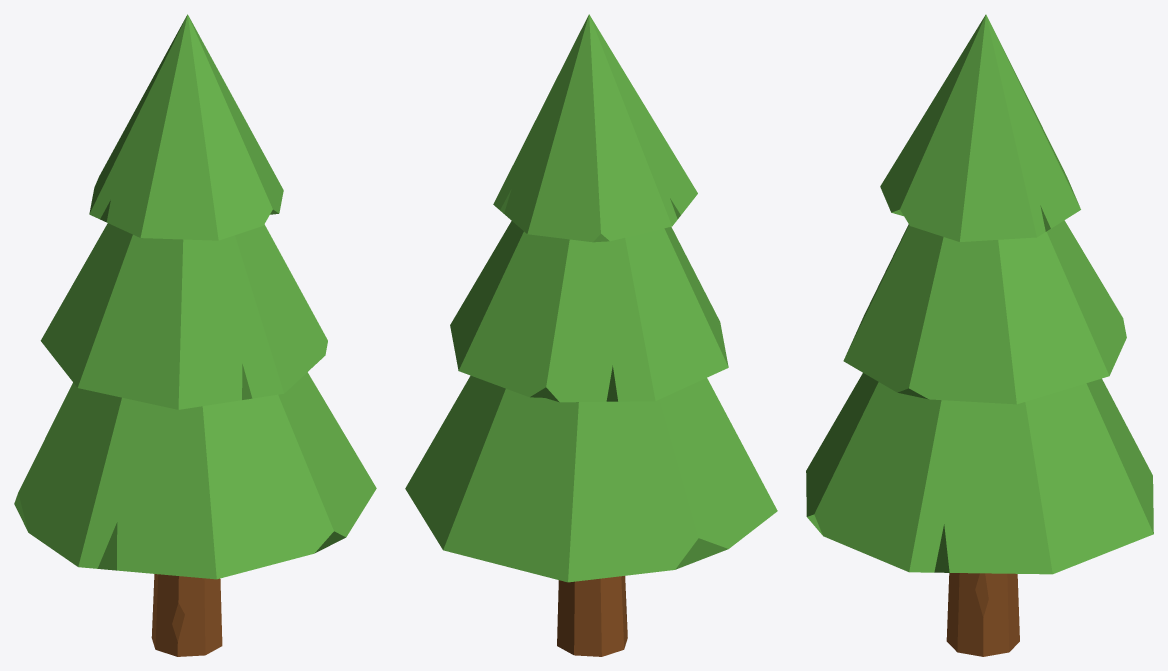
Rendered from pine.fbx.
The picture shows the model from 3 angles, left to right: view 1: azimuth 30°, elevation 25°; view 2: azimuth 150°, elevation 25°; view 3: azimuth 270°, elevation 25°; orthographic projection.
Visible parts, largest first — view 1: pine; view 2: pine; view 3: pine.
Boxes of the visible parts, x1=… form: pine: x1=14, y1=14, x2=376, y2=656; pine: x1=405, y1=14, x2=777, y2=656; pine: x1=806, y1=14, x2=1153, y2=656.
Bounding box in the file's own units: 7.29 × 14.55 × 7.3.
